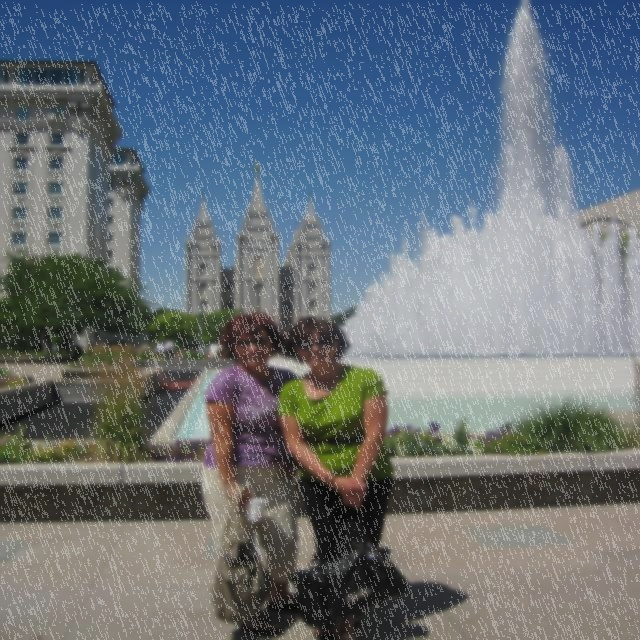pessoa: (276, 316, 414, 640), (200, 312, 301, 634), (138, 342, 150, 368), (166, 338, 176, 359), (164, 340, 174, 360), (153, 340, 164, 356), (68, 346, 78, 362), (76, 343, 82, 359), (86, 344, 92, 356), (51, 344, 60, 352), (51, 344, 54, 352)
